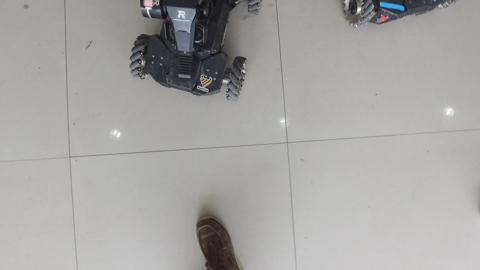chariot: (113, 1, 273, 114)
